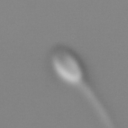normal: (74, 80, 117, 128)
